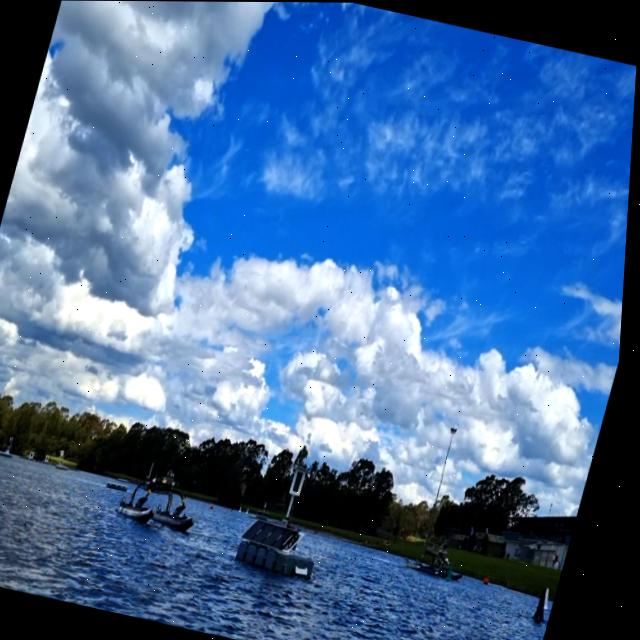led: (297, 469, 310, 492)
